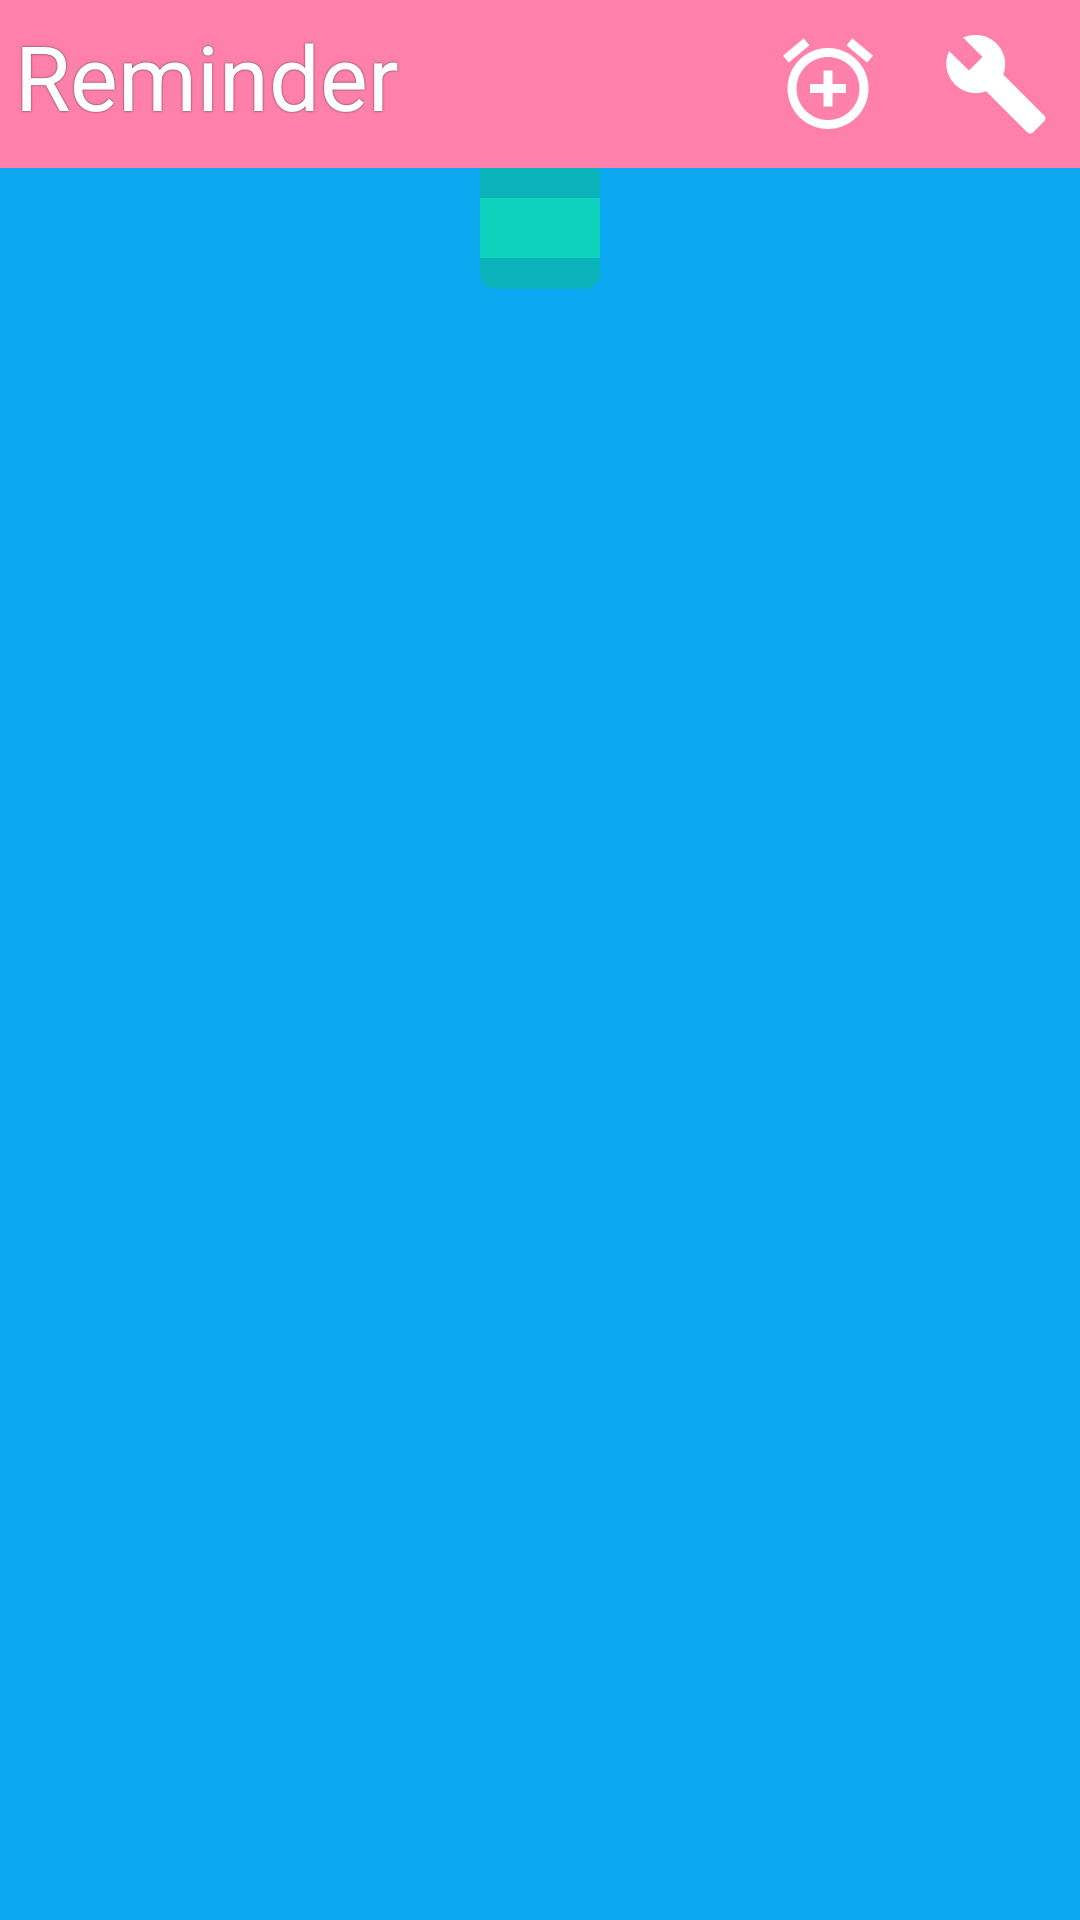

Icon click points for this 1080 x 1920 phone screenshot, format (x,y):
alarm plus: (828,83)
wrench: (996,84)
